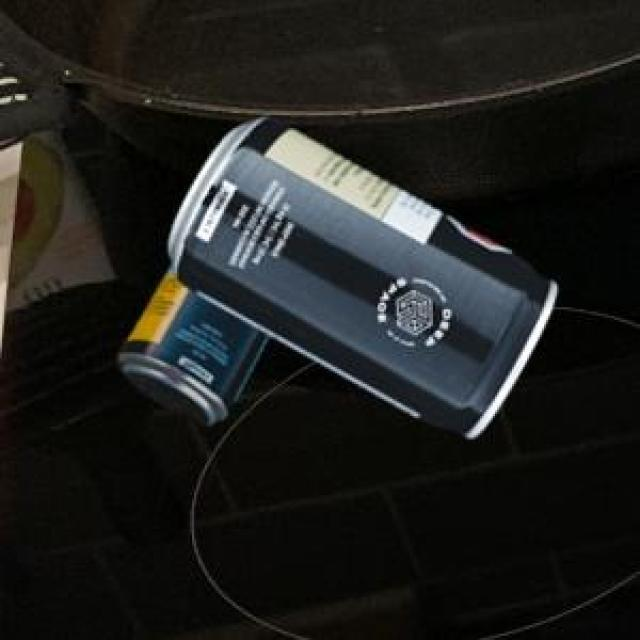Can: (165, 114, 554, 436), (116, 261, 266, 421)
